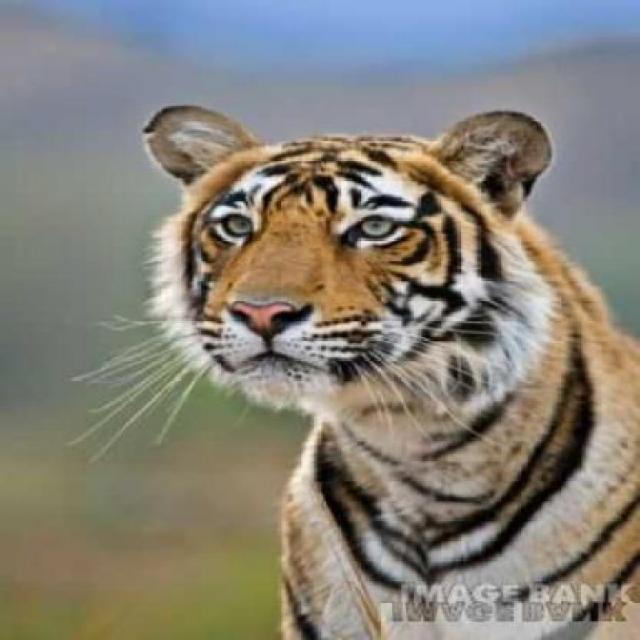Tiger: (119, 53, 618, 569)
